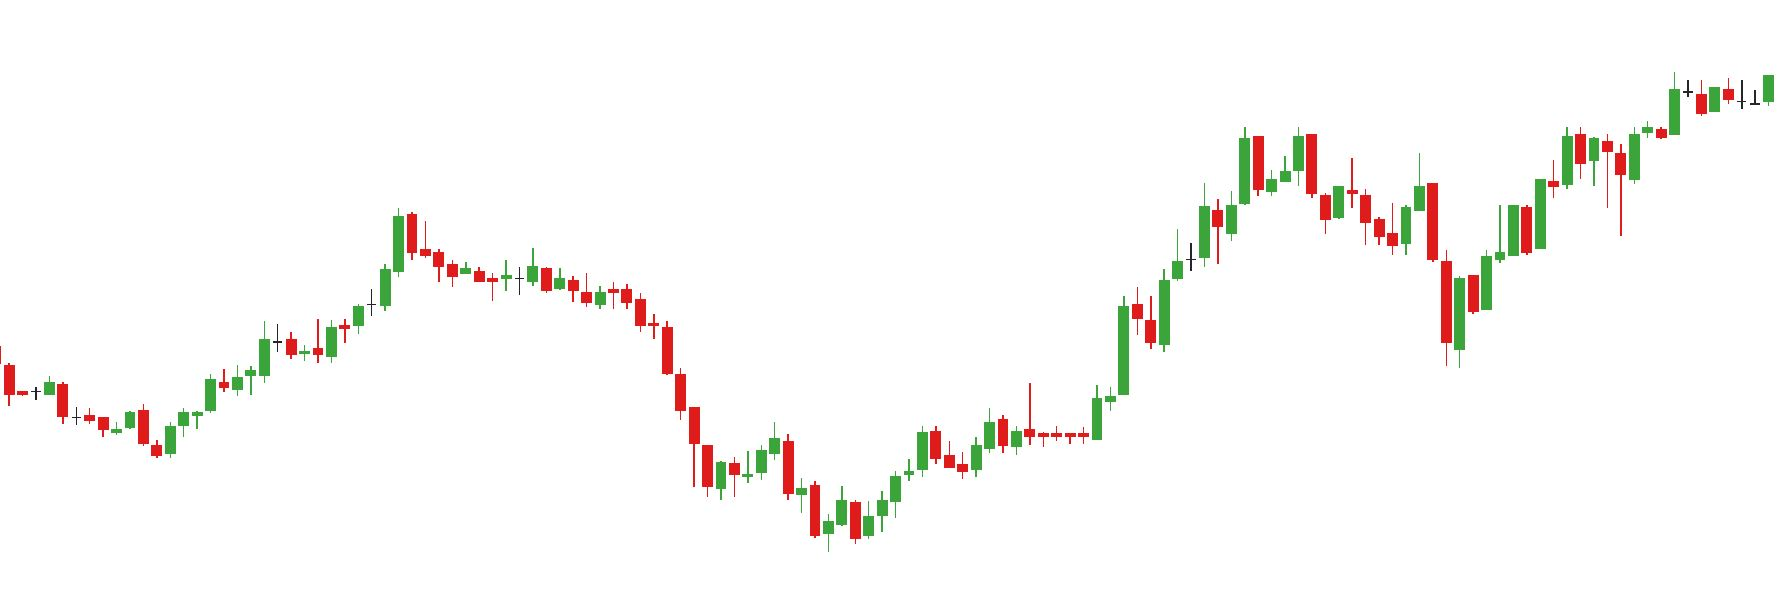buy: (1141, 223, 1468, 372)
